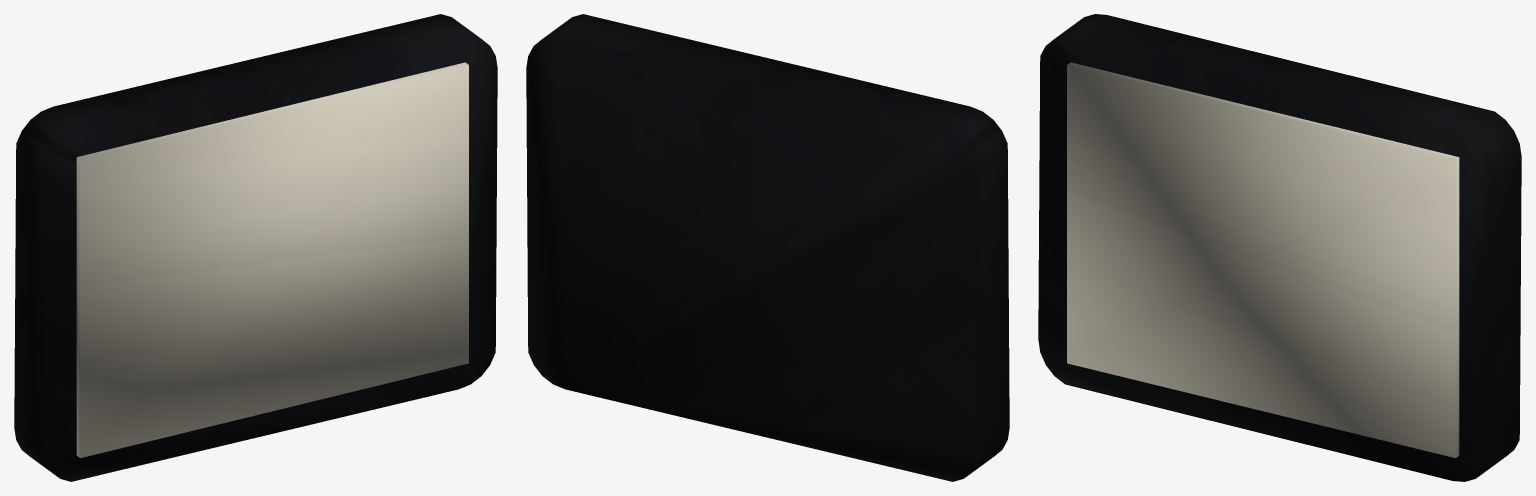
File: DOCUMENT_TRAY_001.glb
3 views of the same model, side by side, from view 1: azimuth 30°, elevation 25°; view 2: azimuth 150°, elevation 25°; view 3: azimuth 330°, elevation 25° (orthographic).
Parts seen in each view (by area): view 1: papers_001, tray_000; view 2: tray_000; view 3: papers_001, tray_000.
Boxes of the visible parts, left/top/right/bottom form: papers_001: left=76, top=62, right=468, bottom=457; tray_000: left=14, top=14, right=497, bottom=481; tray_000: left=526, top=14, right=1009, bottom=481; papers_001: left=1067, top=62, right=1459, bottom=457; tray_000: left=1038, top=14, right=1521, bottom=481.
Size of the model in its own units: 0.35 by 0.26 by 0.045.
2 materials, 2 textured.
